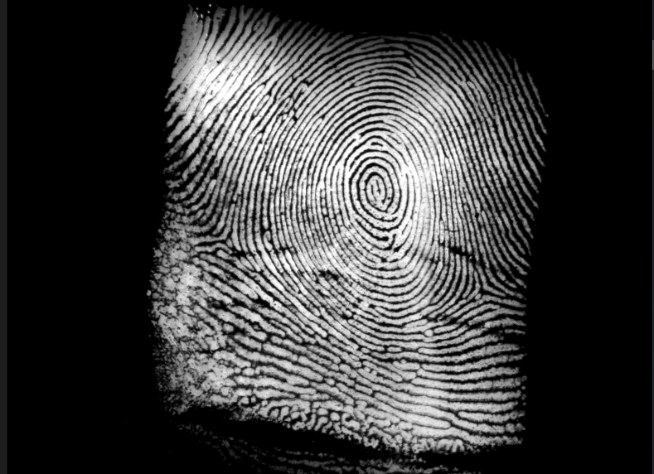deltas: (201, 209, 249, 262), (454, 254, 501, 306)
nucleo: (351, 168, 399, 220)
